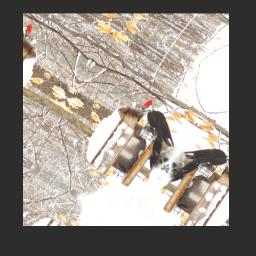Woodpecker: (118, 96, 191, 169)
